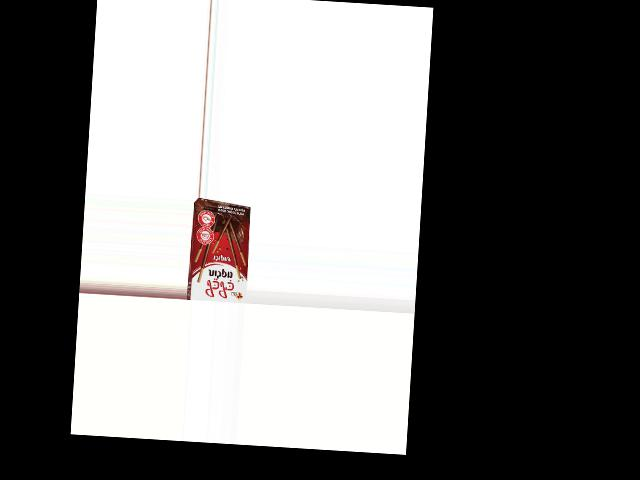chocolate: (187, 204, 252, 303)
